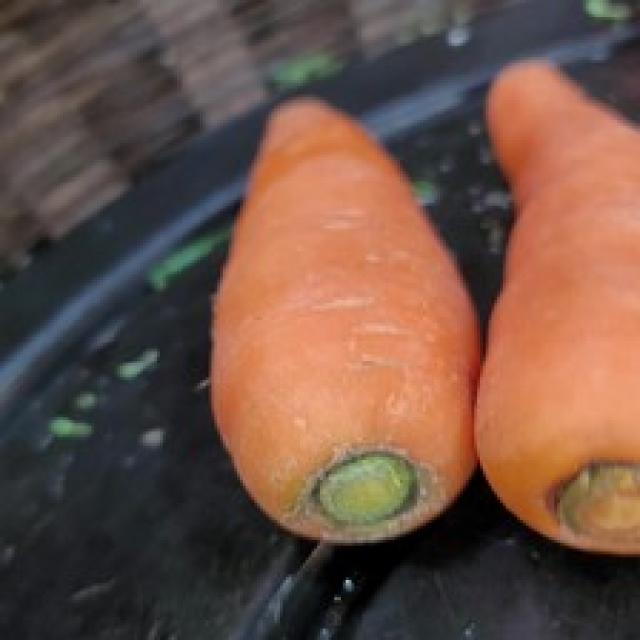Fresh_Carrot: (202, 87, 486, 552), (478, 59, 640, 549)
